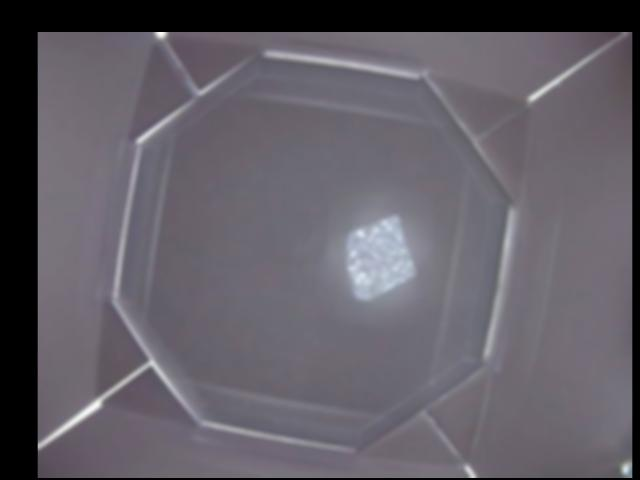China: (345, 215, 414, 301)
